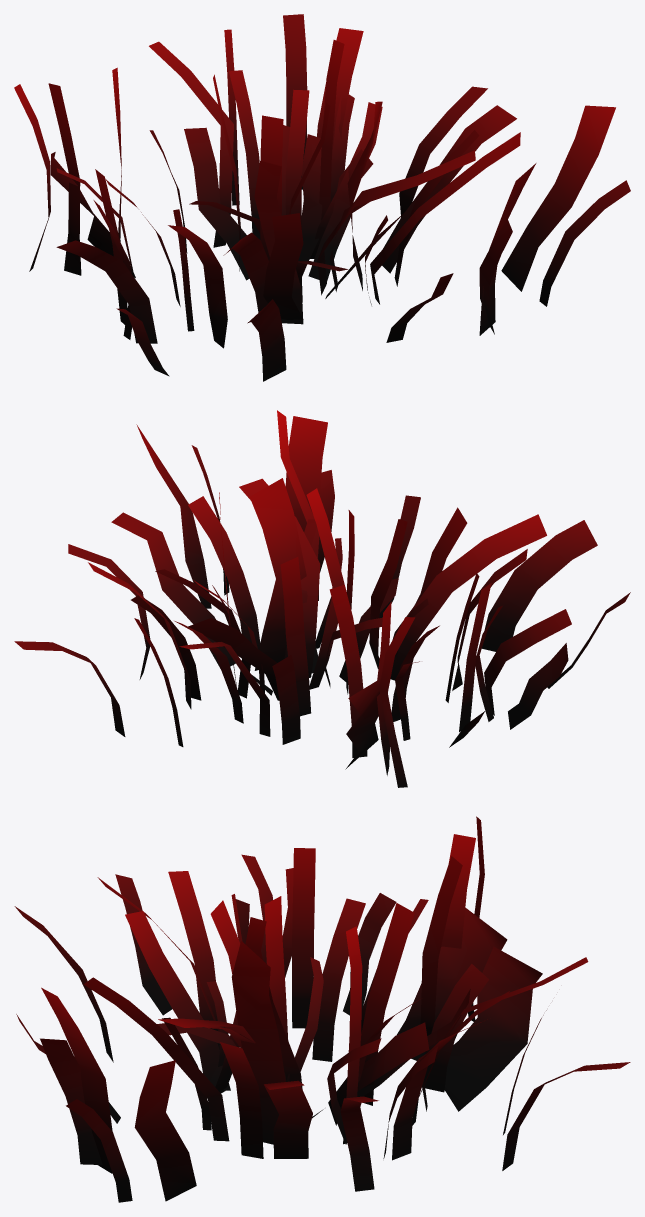
Rendered from GrassGreen_qheqG2_04.fbx.
The picture shows the model from 3 angles, top to bottom: view 1: azimuth 30°, elevation 25°; view 2: azimuth 150°, elevation 25°; view 3: azimuth 270°, elevation 25°; orthographic projection. The views are drawn at different scales.
Parts seen in each view (by area): view 1: LOD0; view 2: LOD0; view 3: LOD0.
Boxes of the visible parts, x1,y1,x2,y2 form: LOD0: [14, 14, 630, 381]; LOD0: [14, 410, 630, 787]; LOD0: [14, 816, 630, 1202].
Size of what is drawn, in the model's own units: 44.26 by 19.03 by 43.53.
